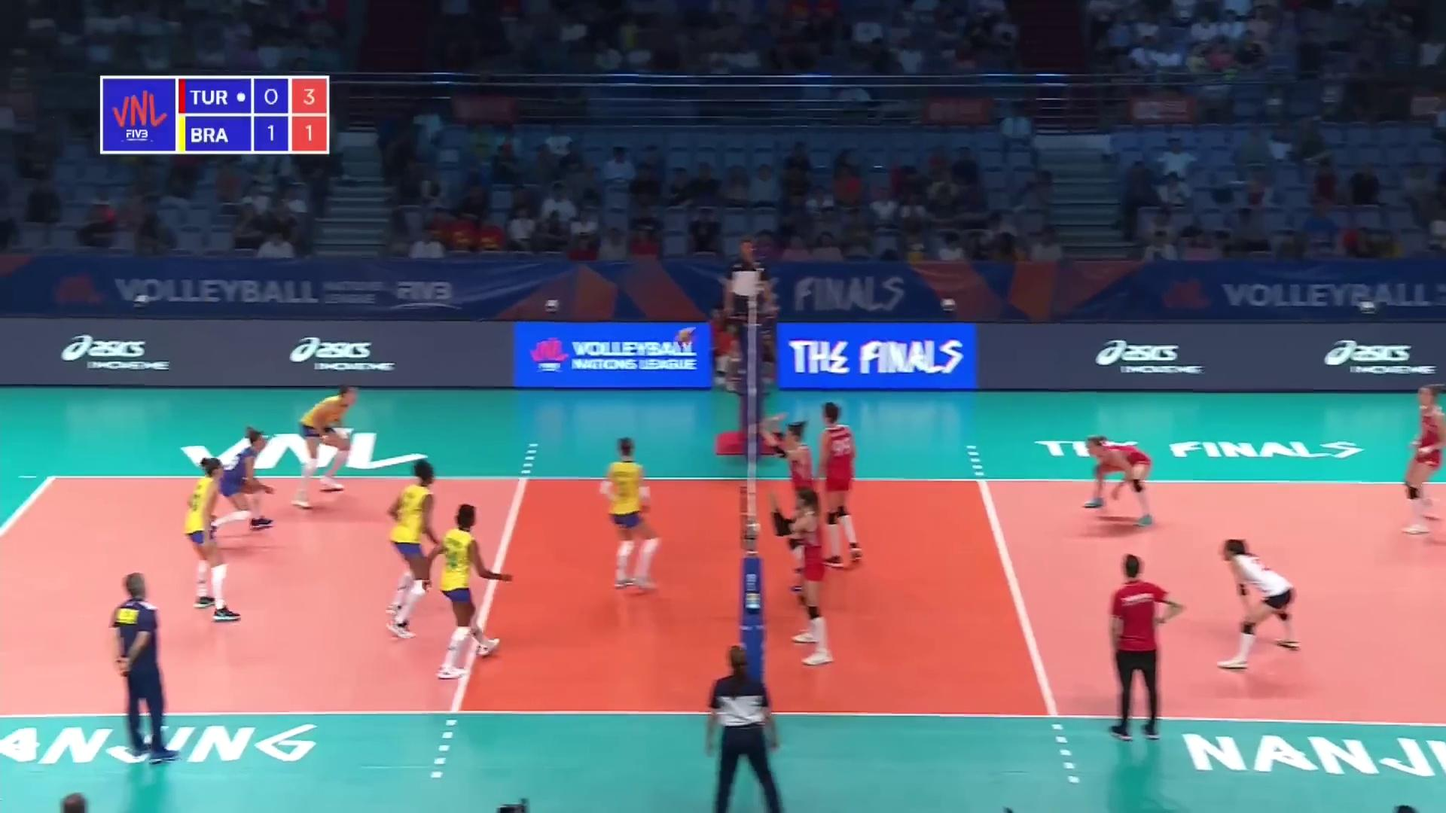player: (422, 506, 514, 677), (774, 490, 838, 663), (385, 462, 447, 639), (1221, 544, 1304, 673), (180, 453, 242, 621), (601, 438, 665, 589), (812, 404, 867, 572), (771, 420, 823, 594), (298, 386, 364, 502), (208, 425, 275, 536), (1080, 435, 1158, 527), (1402, 389, 1446, 534)
refree: (705, 648, 783, 813), (717, 244, 775, 366)
